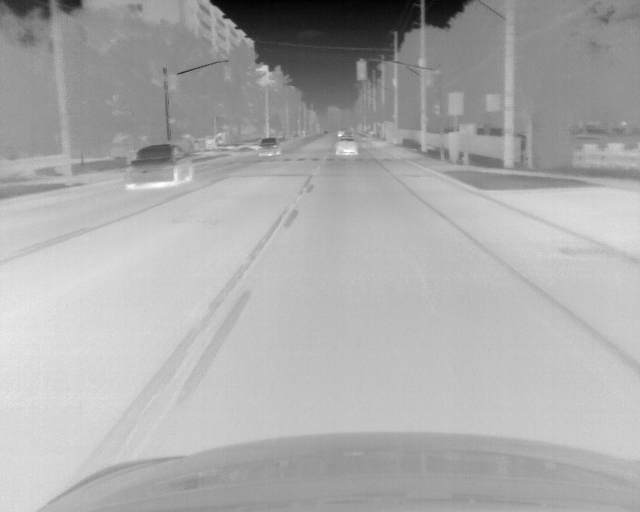car: (123, 144, 196, 191), (258, 137, 279, 159), (334, 137, 358, 156)
